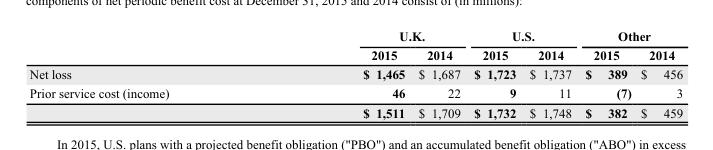table: (28, 28, 682, 119)
table column: (28, 28, 265, 119), (265, 28, 411, 119), (577, 28, 635, 119), (466, 28, 522, 119), (411, 28, 466, 119), (522, 28, 577, 119), (635, 28, 682, 119)
table column header: (28, 28, 682, 63)
table row: (28, 63, 682, 83), (28, 83, 682, 102), (28, 45, 682, 63), (28, 28, 682, 45), (28, 102, 682, 119)
table spanning cell: (265, 28, 466, 45), (466, 28, 577, 45), (577, 28, 682, 45)
